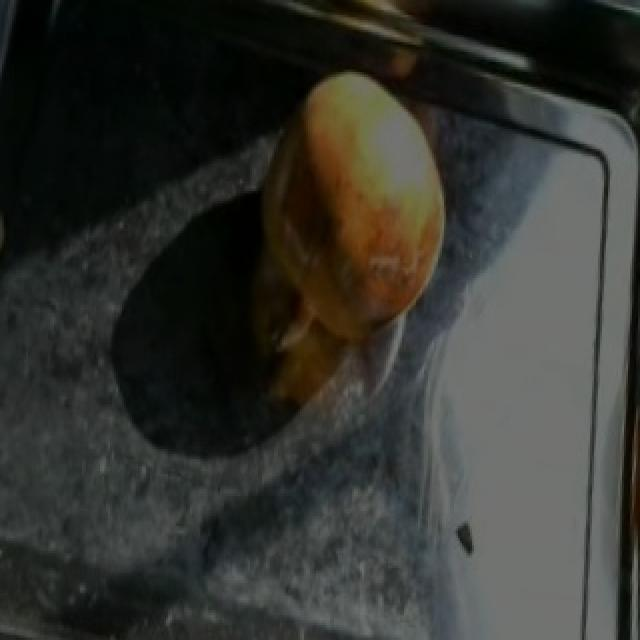fruit: (230, 50, 468, 347)
